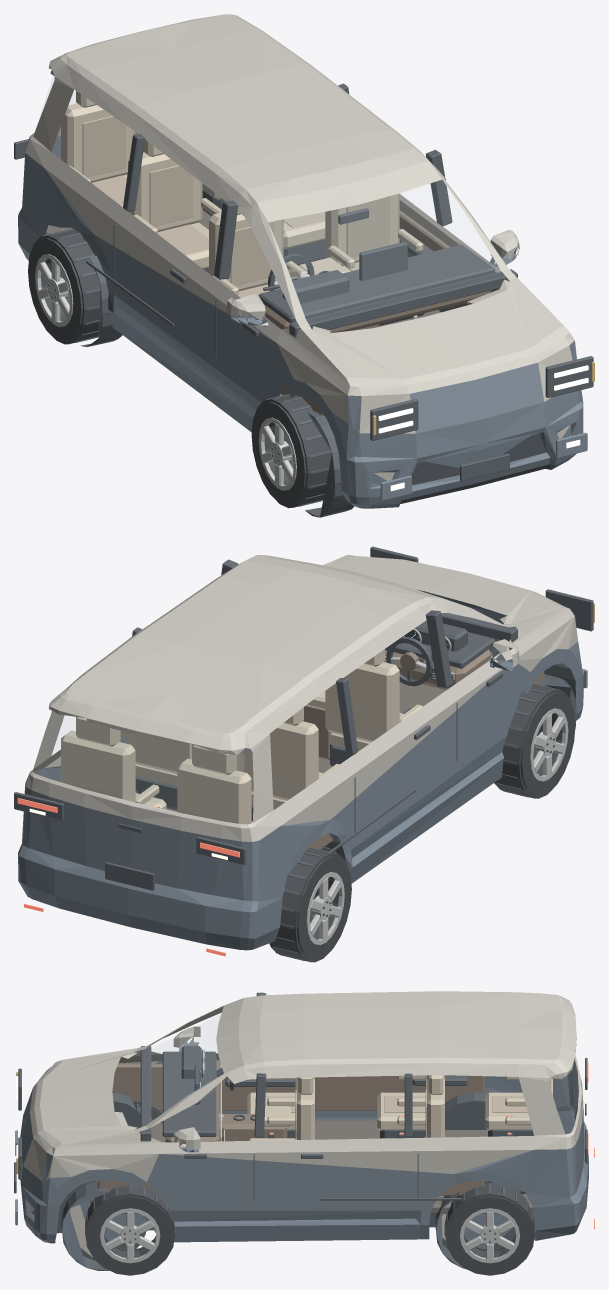
Rendered from OriginalMPV.glb.
3 views of the same model, one above another, from view 1: azimuth 30°, elevation 25°; view 2: azimuth 150°, elevation 25°; view 3: azimuth 270°, elevation 25° (orthographic). The views are drawn at different scales.
Parts seen in each view (by area): view 1: Roof_WarmIvory, Body_SlateBlue, Body_WarmIvory, Body_CharcoalTrim, Interior_SeatInsert, Interior_SandUpholstery, Interior_CharcoalTrim, WheelFrontLeft_TireRubber, WheelRearLeft_TireRubber, Interior_WalnutDashboard, WheelRearLeft_MatteAlloy, WheelFrontLeft_MatteAlloy (+1 smaller); view 2: Body_SlateBlue, Roof_WarmIvory, Body_WarmIvory, Interior_SandUpholstery, Body_CharcoalTrim, WheelRearLeft_TireRubber, WheelFrontLeft_TireRubber, Interior_CharcoalTrim, Interior_WalnutDashboard, WheelRearLeft_MatteAlloy, WheelFrontLeft_MatteAlloy, Interior_CabinFloor (+4 smaller); view 3: Body_SlateBlue, Roof_WarmIvory, Body_WarmIvory, Body_CharcoalTrim, Interior_WalnutDashboard, Interior_SandUpholstery, Interior_CharcoalTrim, WheelRearRight_TireRubber, WheelFrontRight_TireRubber, Interior_CabinFloor, WheelFrontRight_MatteAlloy, WheelRearRight_MatteAlloy (+1 smaller).
Boxes of the visible parts, x1=… form: Roof_WarmIvory: x1=48, y1=14, x2=443, y2=222; Body_SlateBlue: x1=18, y1=70, x2=587, y2=508; Body_WarmIvory: x1=25, y1=77, x2=576, y2=480; Body_CharcoalTrim: x1=14, y1=83, x2=593, y2=517; Interior_SeatInsert: x1=82, y1=116, x2=390, y2=297; Interior_SandUpholstery: x1=61, y1=91, x2=423, y2=295; Interior_CharcoalTrim: x1=202, y1=189, x2=494, y2=325; WheelFrontLeft_TireRubber: x1=251, y1=395, x2=331, y2=508; WheelRearLeft_TireRubber: x1=28, y1=229, x2=100, y2=344; Interior_WalnutDashboard: x1=83, y1=210, x2=499, y2=415; WheelRearLeft_MatteAlloy: x1=35, y1=254, x2=73, y2=327; WheelFrontLeft_MatteAlloy: x1=258, y1=417, x2=296, y2=490; Body_SlateBlue: x1=18, y1=590, x2=587, y2=950; Roof_WarmIvory: x1=48, y1=555, x2=443, y2=754; Body_WarmIvory: x1=25, y1=555, x2=577, y2=841; Interior_SandUpholstery: x1=61, y1=632, x2=454, y2=824; Body_CharcoalTrim: x1=14, y1=546, x2=593, y2=890; WheelRearLeft_TireRubber: x1=269, y1=848, x2=351, y2=962; WheelFrontLeft_TireRubber: x1=494, y1=685, x2=575, y2=798; Interior_CharcoalTrim: x1=120, y1=620, x2=494, y2=821; Interior_WalnutDashboard: x1=120, y1=649, x2=544, y2=849; WheelRearLeft_MatteAlloy: x1=306, y1=872, x2=344, y2=944; WheelFrontLeft_MatteAlloy: x1=530, y1=708, x2=568, y2=781; Interior_CabinFloor: x1=166, y1=682, x2=445, y2=811; Body_SlateBlue: x1=15, y1=1037, x2=588, y2=1267; Roof_WarmIvory: x1=216, y1=991, x2=576, y2=1078; Body_WarmIvory: x1=23, y1=1005, x2=583, y2=1257; Body_CharcoalTrim: x1=14, y1=992, x2=587, y2=1270; Interior_WalnutDashboard: x1=98, y1=1059, x2=484, y2=1195; Interior_SandUpholstery: x1=204, y1=1051, x2=552, y2=1141; Interior_CharcoalTrim: x1=162, y1=1046, x2=533, y2=1193; WheelRearRight_TireRubber: x1=445, y1=1182, x2=534, y2=1275; WheelFrontRight_TireRubber: x1=85, y1=1185, x2=175, y2=1275; Interior_CabinFloor: x1=90, y1=1120, x2=561, y2=1213; WheelFrontRight_MatteAlloy: x1=100, y1=1208, x2=160, y2=1263; WheelRearRight_MatteAlloy: x1=460, y1=1208, x2=519, y2=1263.
Bounding box in the file's own units: 2.52 × 2.1 × 5.49.
